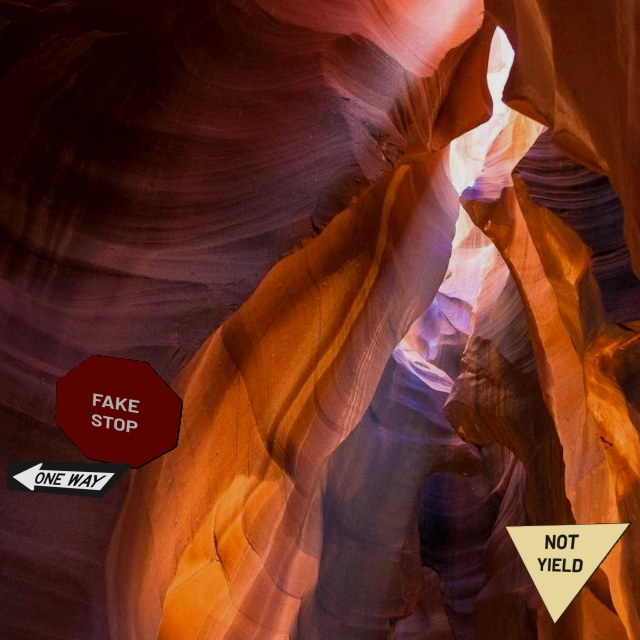FAKE_STOP: (55, 354, 183, 469)
NOT_YIELD: (504, 522, 632, 625)
ONE_WAY_ left: (5, 460, 133, 498)
